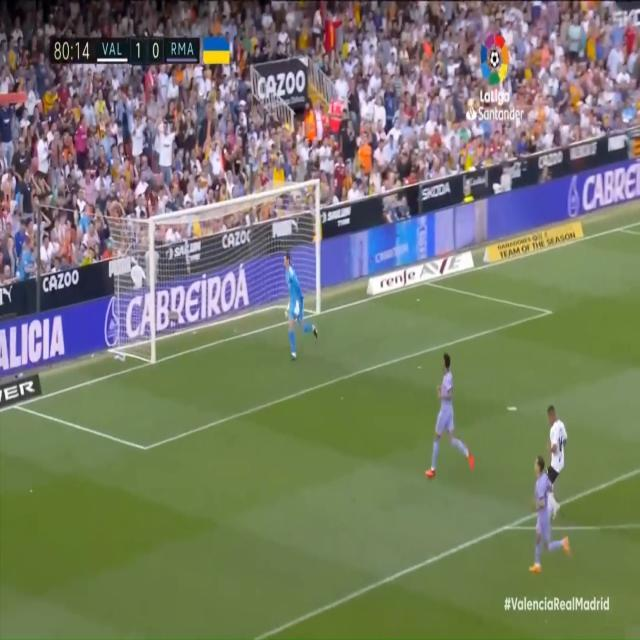goalkeeper: (281, 248, 319, 365)
player: (425, 349, 474, 487), (529, 454, 572, 584), (543, 402, 568, 522)
